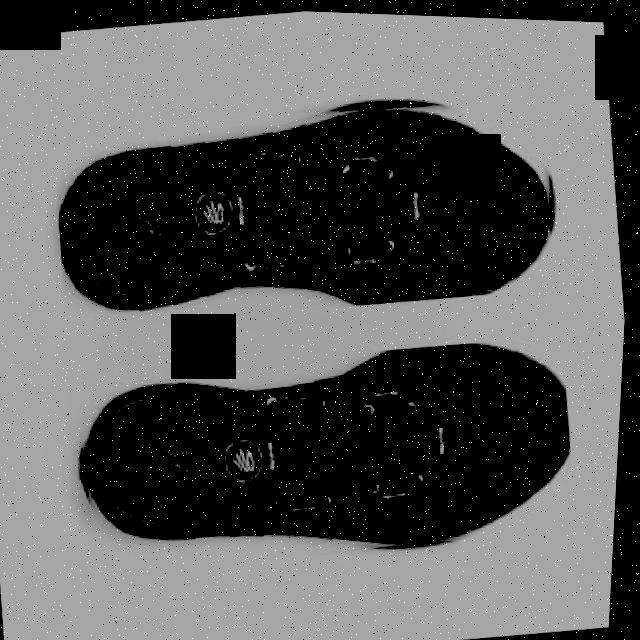shoe: (45, 66, 573, 344), (70, 316, 590, 589)
